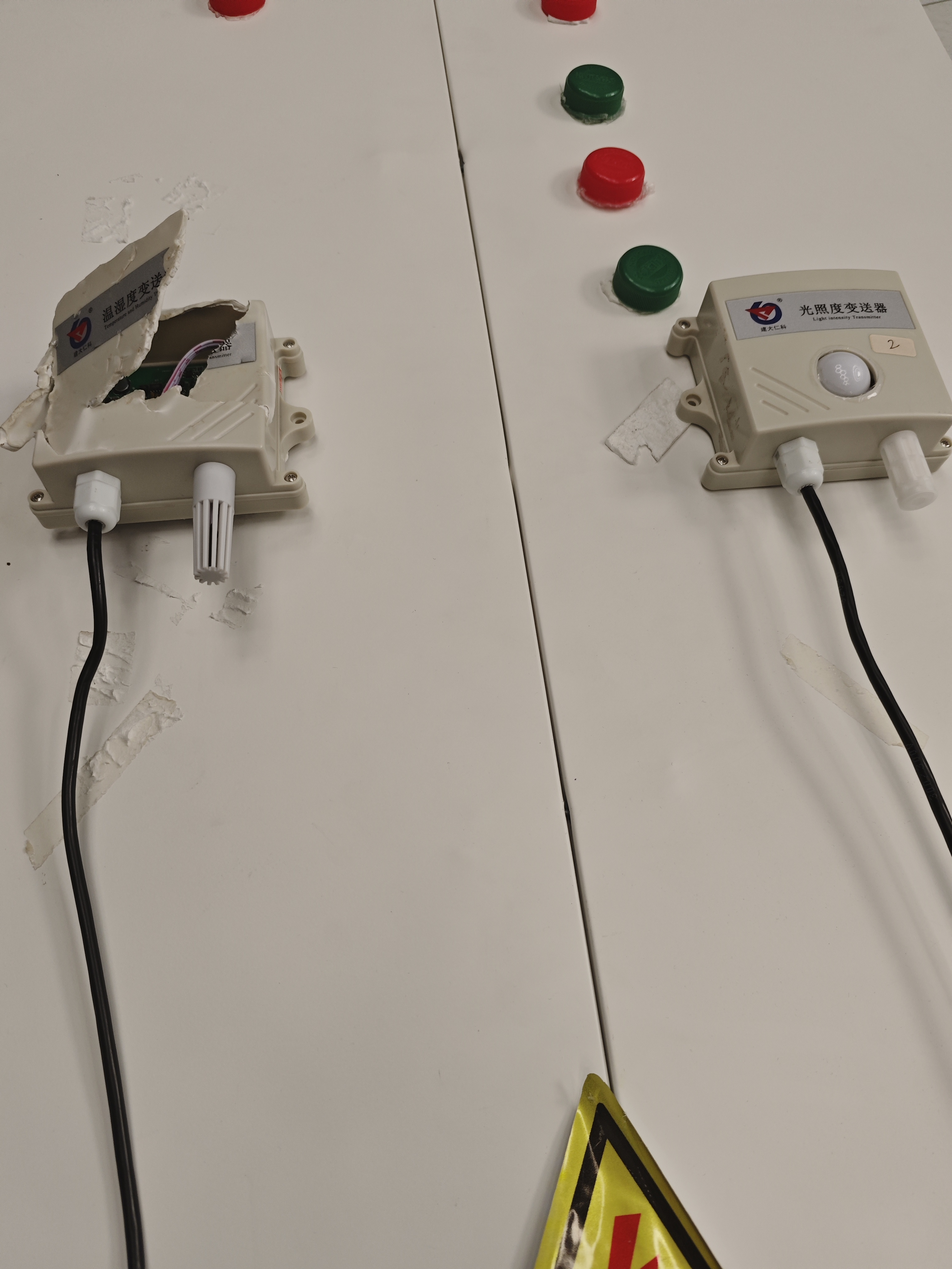red_warning: (550, 135, 684, 213)
sensor_damage: (27, 201, 410, 608)
